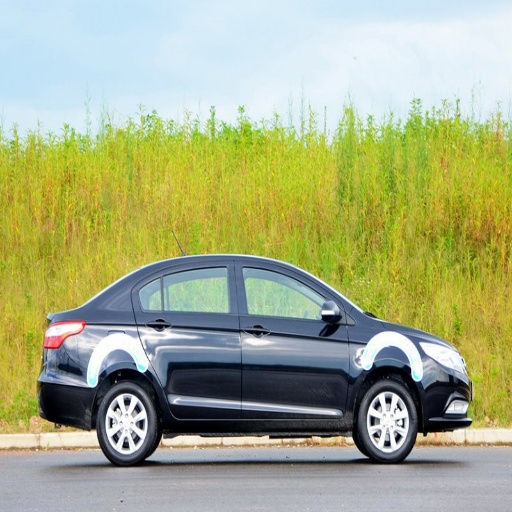back_right_door: (134, 258, 242, 417)
front_right_door: (238, 259, 349, 418)
